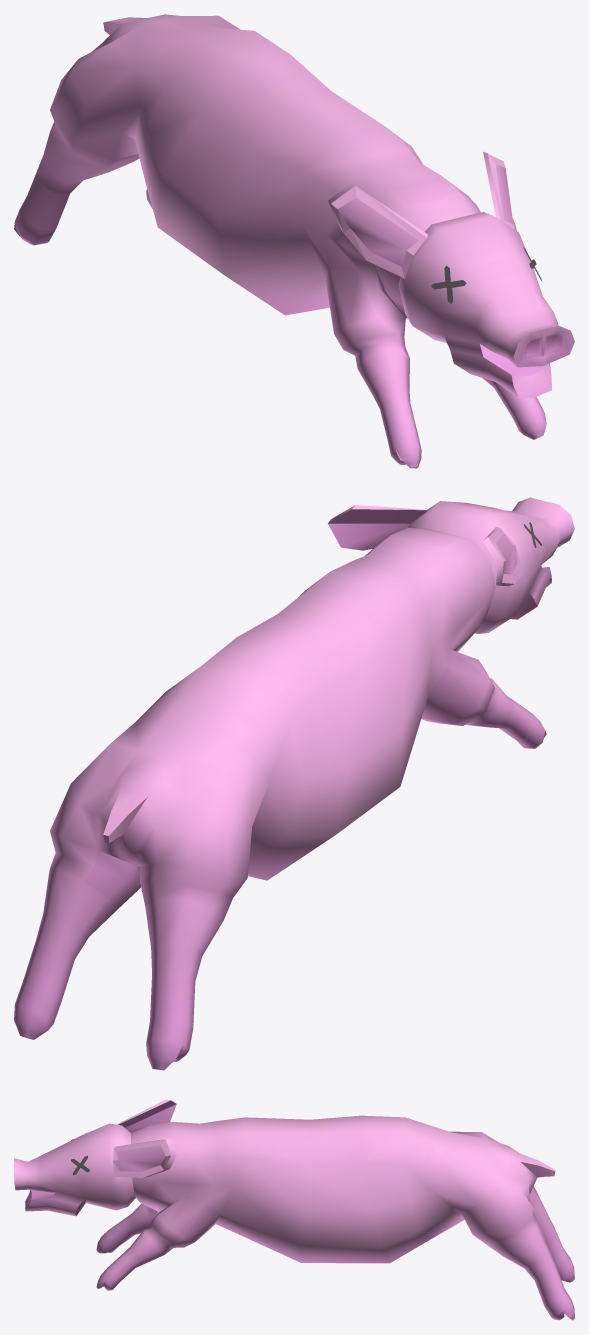
Rendered from Lichon.FBX.
3 views of the same model, one above another, from view 1: azimuth 30°, elevation 25°; view 2: azimuth 150°, elevation 25°; view 3: azimuth 270°, elevation 25° (orthographic). The views are drawn at different scales.
Parts seen in each view (by area): view 1: Cylinder001; view 2: Cylinder001; view 3: Cylinder001.
Part boxes in pixels (left/top/right/bottom): Cylinder001: left=14, top=14, right=574, bottom=468; Cylinder001: left=14, top=497, right=574, bottom=1070; Cylinder001: left=14, top=1099, right=574, bottom=1320.
Bounding box in the file's own units: 22.58 × 34.13 × 95.65.
2 materials, 2 textured.
